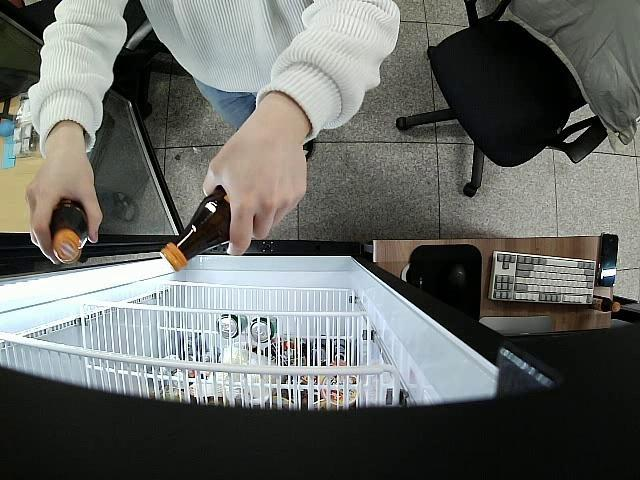17_vita500: (160, 185, 232, 273), (51, 200, 88, 262)
